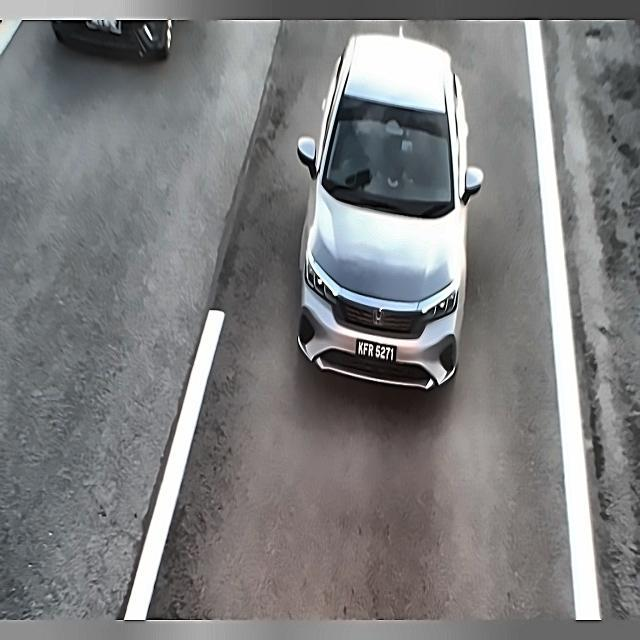car: (349, 328, 402, 374), (76, 17, 128, 39)
